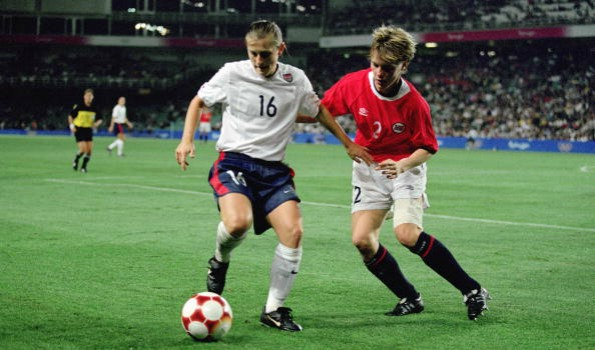referee: (65, 90, 103, 172)
soccer player: (316, 24, 495, 323), (178, 20, 339, 334), (105, 95, 134, 159)
soccerball: (178, 290, 233, 343)
